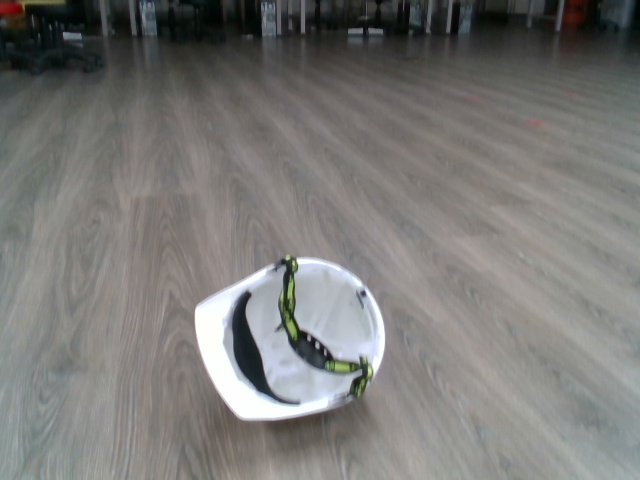helmet: (192, 253, 392, 423)
